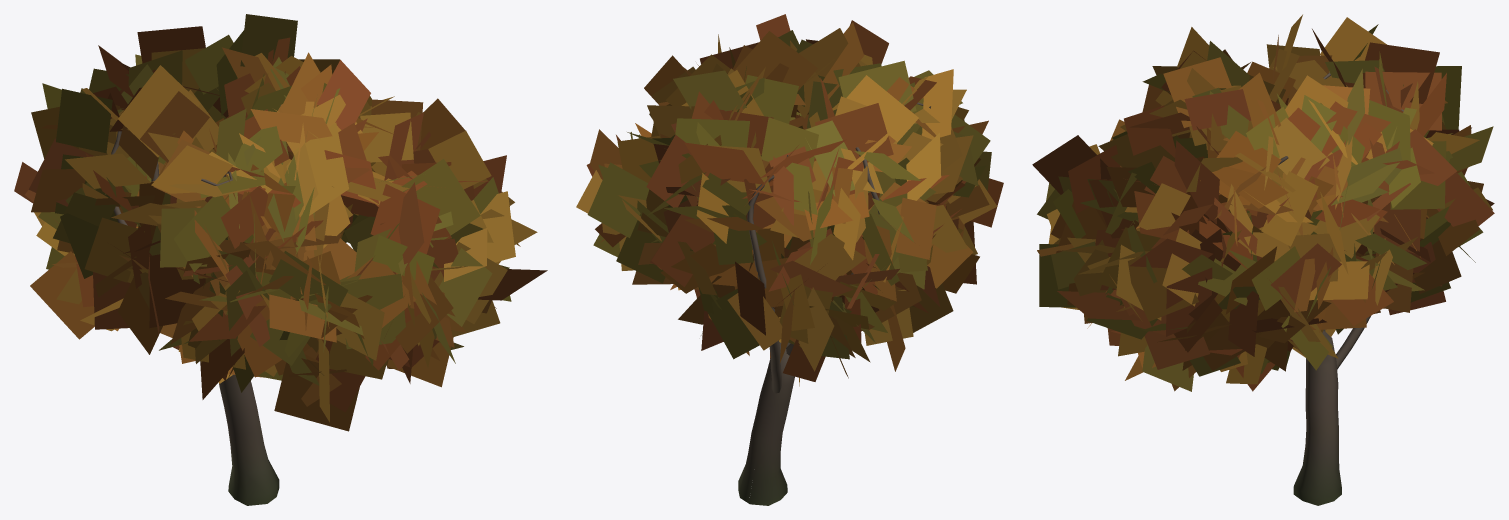
Rendered from broadleaf.oak.autumn.glb.
3 renders of one model, left to right at view 1: azimuth 30°, elevation 25°; view 2: azimuth 150°, elevation 25°; view 3: azimuth 270°, elevation 25°, orthographic. The views are drawn at different scales.
Parts seen in each view (by area): view 1: broadleaf_oak_autumn; view 2: broadleaf_oak_autumn; view 3: broadleaf_oak_autumn.
Boxes of the visible parts, x1=… form: broadleaf_oak_autumn: x1=14, y1=14, x2=547, y2=505; broadleaf_oak_autumn: x1=576, y1=14, x2=1003, y2=505; broadleaf_oak_autumn: x1=1032, y1=14, x2=1494, y2=505.
Size of what is drawn, in the model's own units: 7.98 by 8.87 by 8.58.
